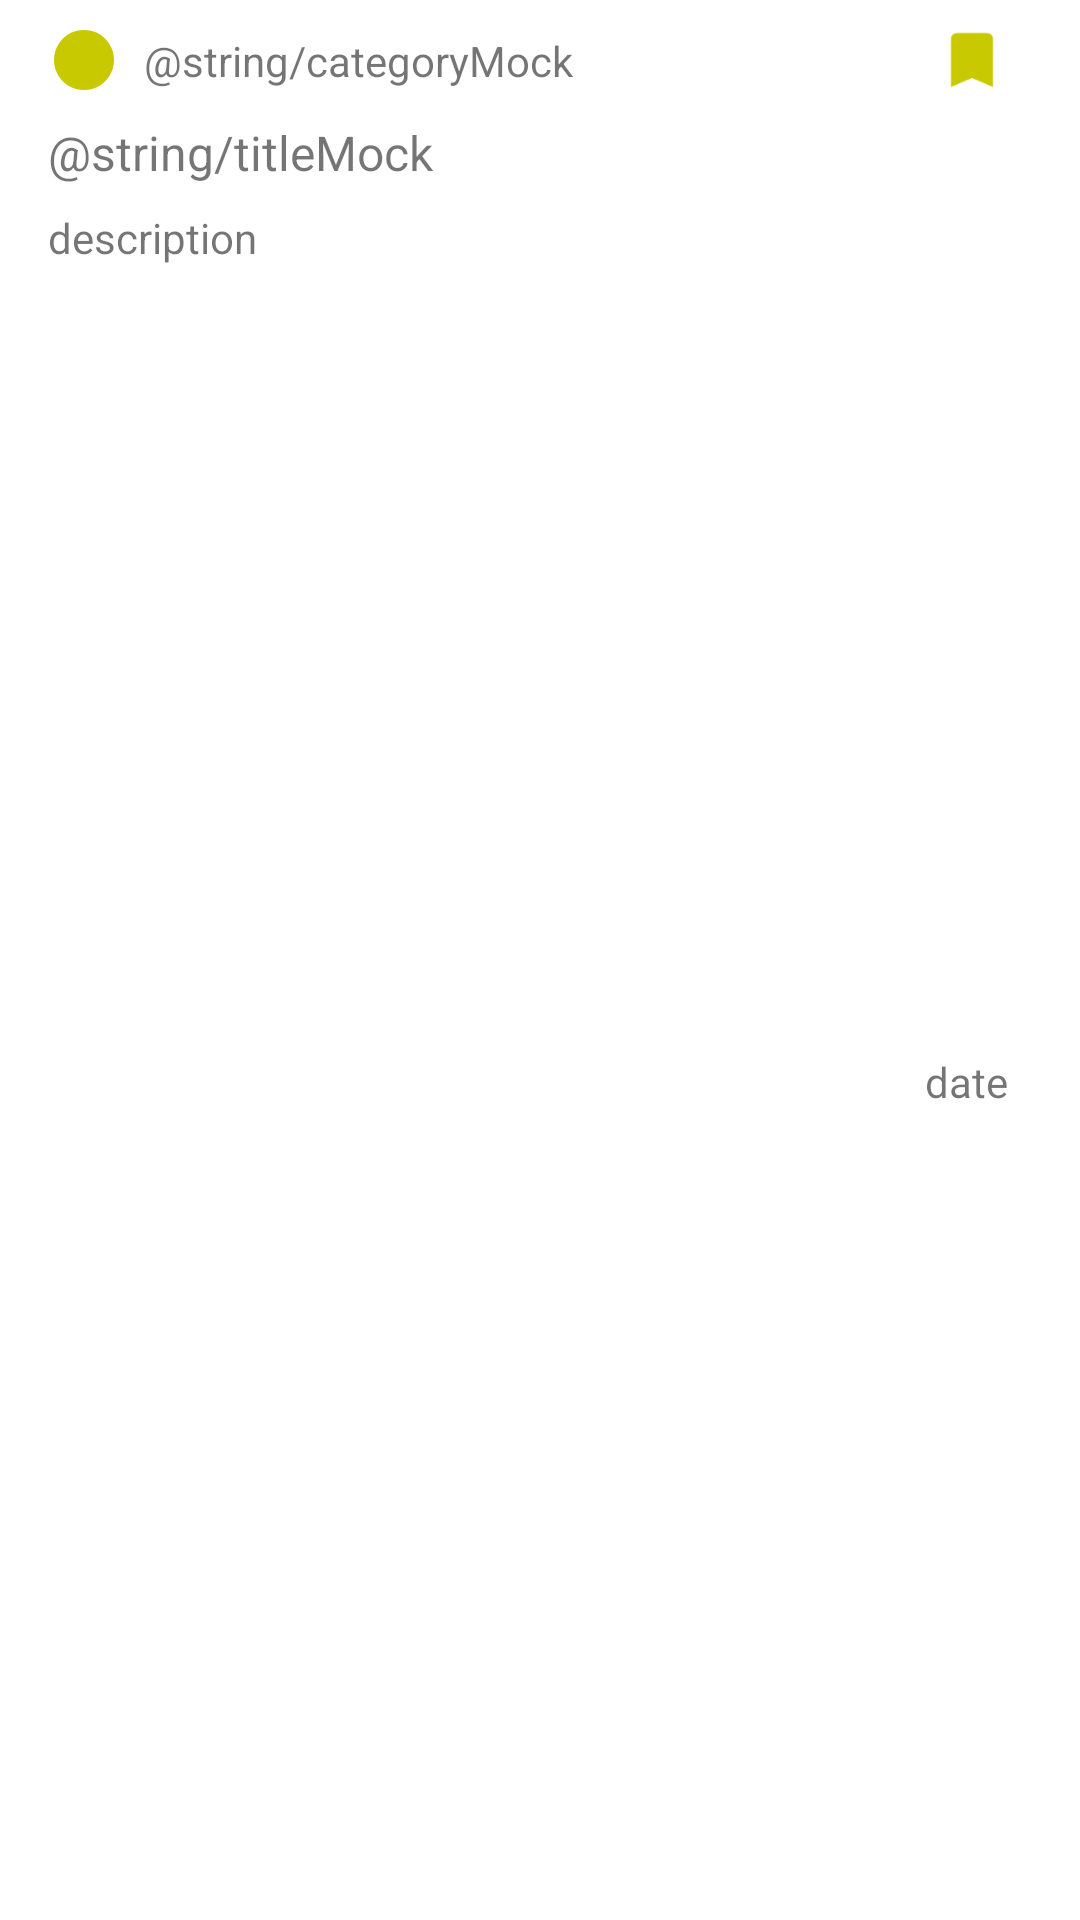

Named icons in this screenshot (1080×1920) and their centers, point (x, y):
bookmark: point (972, 59)
